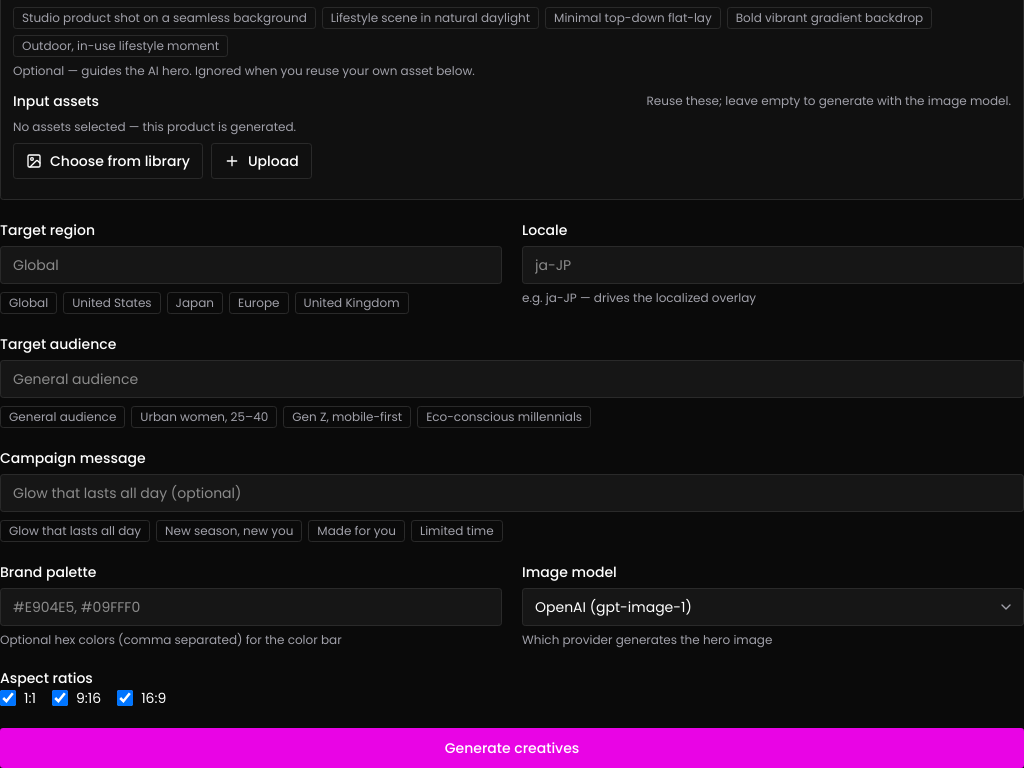
Test: BriefForm (registry-driven) › shows validation errors instead of submitting an empty brief
The image size is (1024, 768).
(page scrolled)
Step 1. Click the button "Generate creatives" → (512, 748), box 0,728 -> 1023,767
(page scrolled)
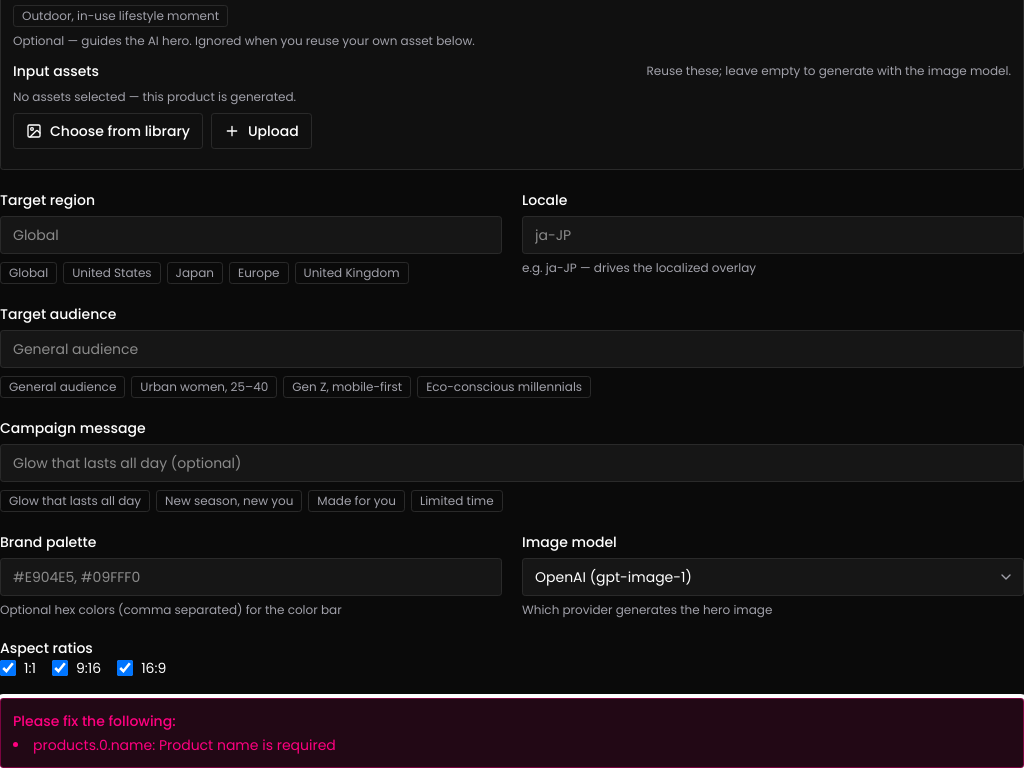
Check: the message shows "required", box 33,735 -> 336,755
